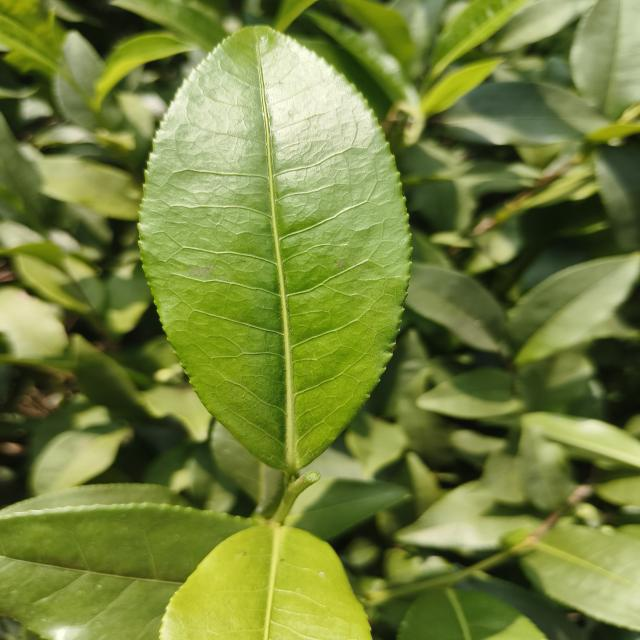Leaf: (139, 27, 410, 472), (0, 503, 253, 640), (160, 525, 371, 640), (508, 253, 640, 365), (520, 524, 640, 631), (306, 11, 420, 115), (394, 481, 541, 556), (440, 82, 607, 145), (406, 263, 505, 352), (570, 0, 640, 119), (428, 0, 528, 82), (92, 31, 195, 107), (285, 477, 409, 540), (397, 588, 546, 640), (31, 153, 142, 220), (31, 427, 133, 494), (521, 412, 640, 468), (71, 334, 147, 419), (110, 0, 226, 51), (416, 368, 523, 418), (0, 112, 43, 230), (53, 30, 104, 128), (0, 286, 68, 359), (518, 427, 574, 511), (345, 413, 408, 478)
